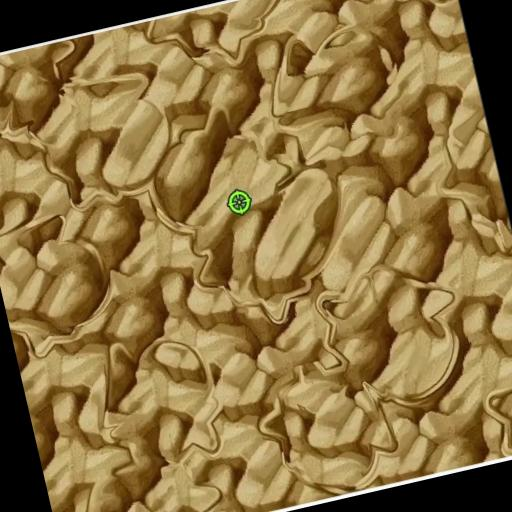Target: (172, 157, 368, 346), (309, 241, 484, 425), (245, 342, 411, 508), (129, 88, 303, 242), (82, 313, 240, 480), (26, 62, 190, 220), (0, 202, 127, 365), (257, 13, 417, 142), (142, 0, 302, 88), (0, 37, 97, 162), (70, 441, 231, 512), (467, 341, 512, 460), (384, 0, 461, 24)
